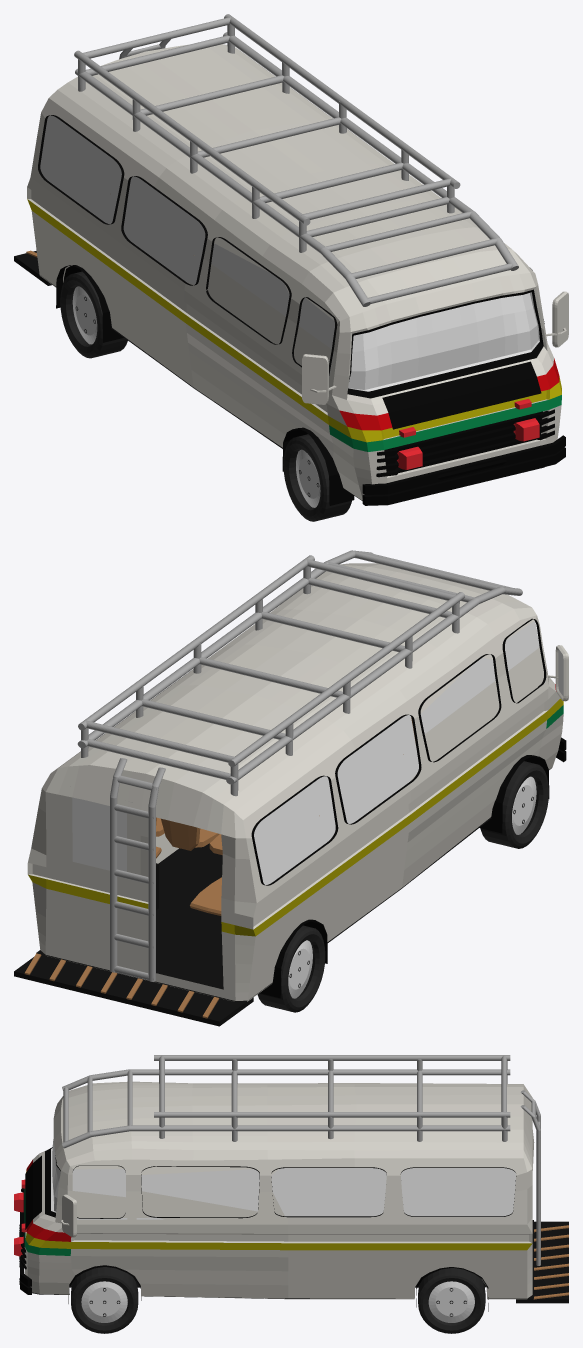
Rendered from Ndiaga Niaye 1.fbx.
3 renders of one model, top to bottom at view 1: azimuth 30°, elevation 25°; view 2: azimuth 150°, elevation 25°; view 3: azimuth 270°, elevation 25°, orthographic. The views are drawn at different scales.
Visible parts, largest first — view 1: Carosserie, Cylinder.023, Glass, parechock, Plane.009, Pneu, Pneux 2, Parebrises, Fares, garde boue 3, Garde boue 4, Cube.007; view 2: Carosserie, Cylinder.023, Glass, Plane, Cube.069, Cylinder.057, Pneu, Pneux 2, Plane.010, Ciéges, garde boue 3, Garde boue 4 (+1 smaller); view 3: Carosserie, Glass, Cylinder.023, Pneu 1, pneux 3, Cube.069, Cylinder.057, Plane.009, Parebrises, parechock, Plane, Fares.
Part boxes in pixels (x1=…): Carosserie: x1=27, y1=44, x2=561, y2=500; Cylinder.023: x1=74, y1=14, x2=518, y2=306; Glass: x1=40, y1=115, x2=334, y2=378; parechock: x1=362, y1=409, x2=565, y2=505; Plane.009: x1=382, y1=361, x2=541, y2=429; Pneu: x1=283, y1=434, x2=351, y2=521; Pneux 2: x1=60, y1=271, x2=127, y2=358; Parebrises: x1=302, y1=291, x2=568, y2=404; Fares: x1=397, y1=398, x2=539, y2=469; garde boue 3: x1=282, y1=427, x2=354, y2=505; Garde boue 4: x1=56, y1=265, x2=123, y2=342; Cube.007: x1=385, y1=411, x2=542, y2=471; Carosserie: x1=27, y1=563, x2=563, y2=1001; Cylinder.023: x1=77, y1=550, x2=522, y2=796; Glass: x1=254, y1=621, x2=545, y2=884; Plane: x1=36, y1=768, x2=551, y2=1003; Cube.069: x1=14, y1=954, x2=253, y2=1026; Cylinder.057: x1=110, y1=758, x2=165, y2=981; Pneu: x1=480, y1=761, x2=548, y2=848; Pneux 2: x1=257, y1=925, x2=325, y2=1012; Plane.010: x1=70, y1=786, x2=132, y2=871; Ciéges: x1=156, y1=717, x2=415, y2=915; garde boue 3: x1=479, y1=755, x2=549, y2=833; Garde boue 4: x1=259, y1=919, x2=327, y2=998; Carosserie: x1=24, y1=1081, x2=534, y2=1299; Glass: x1=72, y1=1168, x2=516, y2=1219; Cylinder.023: x1=62, y1=1055, x2=510, y2=1148; Pneu 1: x1=71, y1=1267, x2=138, y2=1333; pneux 3: x1=418, y1=1268, x2=485, y2=1333; Cube.069: x1=516, y1=1221, x2=568, y2=1303; Cylinder.057: x1=520, y1=1090, x2=540, y2=1265; Plane.009: x1=25, y1=1155, x2=41, y2=1229; Parebrises: x1=60, y1=1194, x2=76, y2=1237; parechock: x1=19, y1=1188, x2=31, y2=1294; Plane: x1=24, y1=1220, x2=533, y2=1298; Fares: x1=14, y1=1179, x2=26, y2=1256.
Bounding box in the file's own units: 429 × 414 × 998.
